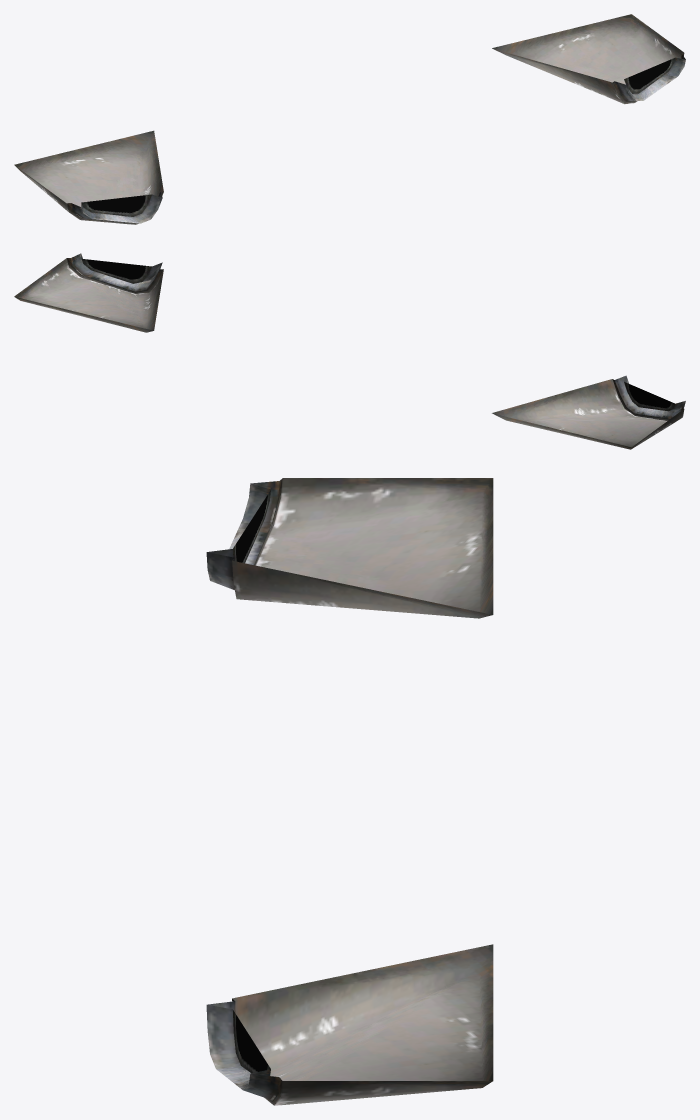
Rendered from hutt_fighter_heavy_missile_pod_s01_l0.fbx.
The picture shows the model from 3 angles, top to bottom: view 1: azimuth 30°, elevation 25°; view 2: azimuth 150°, elevation 25°; view 3: azimuth 270°, elevation 25°; orthographic projection. The views are drawn at different scales.
Parts seen in each view (by area): view 1: mesh_node; view 2: mesh_node; view 3: mesh_node.
Boxes of the visible parts, x1,y1,x2,y2 form: mesh_node: [14, 14, 685, 224]; mesh_node: [14, 253, 685, 449]; mesh_node: [206, 478, 493, 1105].
Bounding box in the file's own units: 17.03 × 0.7738 × 3.43.
